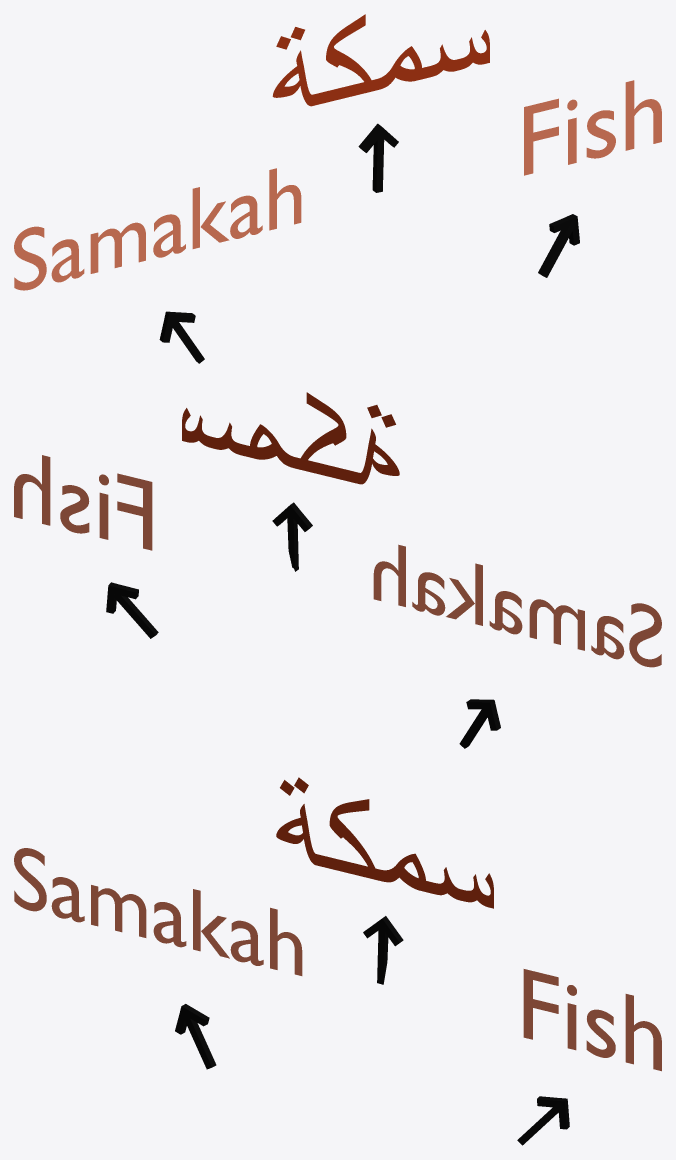
The model's file is fish.fbx.
The picture shows the model from 3 angles, top to bottom: view 1: azimuth 30°, elevation 25°; view 2: azimuth 150°, elevation 25°; view 3: azimuth 330°, elevation 25°; orthographic projection.
Parts seen in each view (by area): view 1: Text.008, text8.002, Text.007, Cube.010, Cube.012, Cube.011; view 2: Text.008, text8.002, Text.007, Cube.010, Cube.012, Cube.011; view 3: Text.008, text8.002, Text.007, Cube.011, Cube.012, Cube.010.
Part boxes in pixels (x1,y1,x2,y2): Text.008: (14, 168, 301, 290); text8.002: (272, 14, 489, 106); Text.007: (524, 80, 661, 175); Cube.010: (538, 214, 579, 277); Cube.012: (358, 123, 398, 192); Cube.011: (159, 311, 204, 363); Text.008: (373, 544, 661, 667); text8.002: (182, 392, 399, 484); Text.007: (14, 455, 152, 550); Cube.010: (106, 582, 158, 638); Cube.012: (272, 502, 312, 571); Cube.011: (459, 699, 500, 748); Text.008: (14, 848, 302, 975); text8.002: (276, 777, 493, 908); Text.007: (523, 969, 661, 1071); Cube.011: (175, 1004, 216, 1069); Cube.012: (363, 916, 403, 984); Cube.010: (517, 1096, 569, 1145).
Bounding box in the file's own units: 193 × 90.13 × 11.91.
